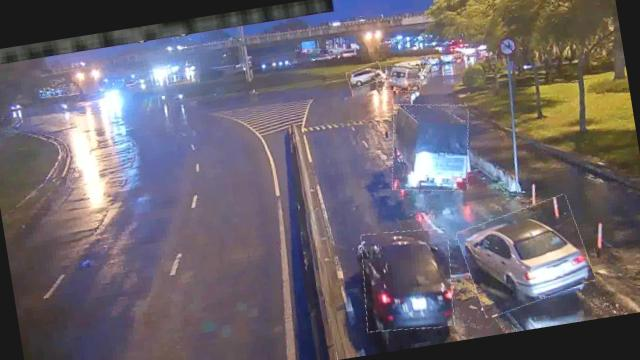Bus: (382, 62, 423, 94)
Car: (458, 196, 595, 315), (355, 222, 460, 336), (346, 62, 384, 87)
Truck: (383, 96, 477, 199)
